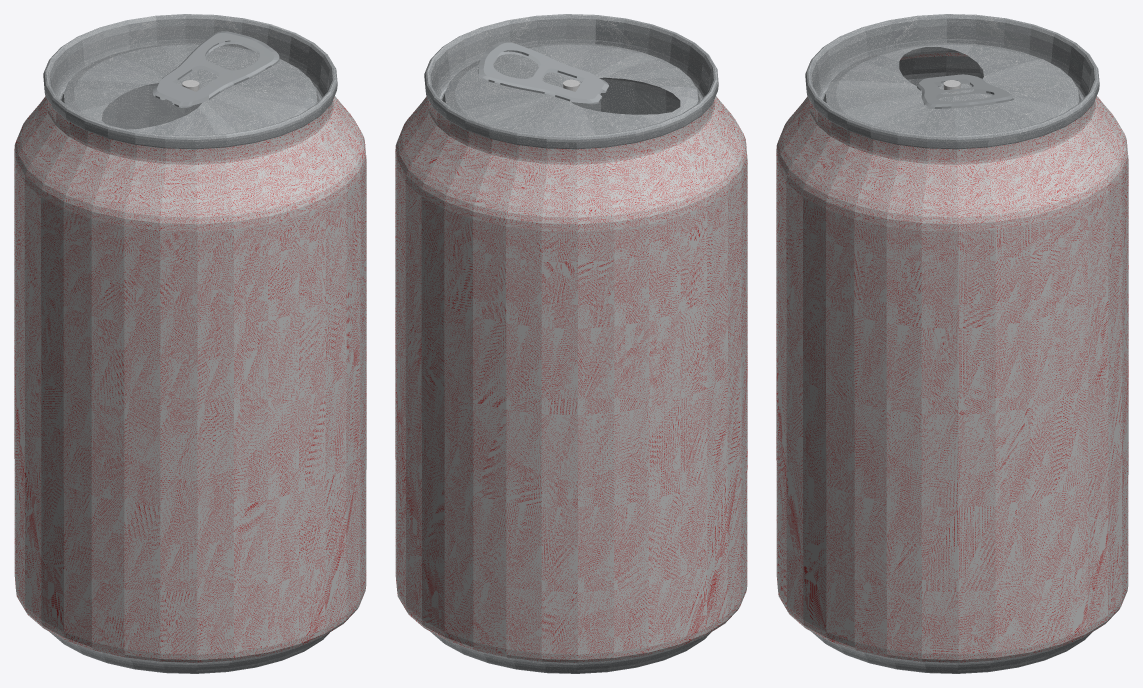
3 renders of one model, left to right at view 1: azimuth 30°, elevation 25°; view 2: azimuth 150°, elevation 25°; view 3: azimuth 270°, elevation 25°, orthographic.
Parts seen in each view (by area): view 1: mesh7.002_mesh7-geometry, mesh1.002_mesh1-geometry, mesh6.002_mesh6-geometry; view 2: mesh7.002_mesh7-geometry, mesh1.002_mesh1-geometry, mesh6.002_mesh6-geometry; view 3: mesh7.002_mesh7-geometry, mesh1.002_mesh1-geometry, mesh6.002_mesh6-geometry.
Boxes of the visible parts, left/top/right/bottom form: mesh7.002_mesh7-geometry: left=14, top=14, right=366, bottom=673; mesh1.002_mesh1-geometry: left=152, top=31, right=279, bottom=107; mesh6.002_mesh6-geometry: left=101, top=83, right=201, bottom=129; mesh7.002_mesh7-geometry: left=395, top=14, right=747, bottom=673; mesh1.002_mesh1-geometry: left=478, top=41, right=608, bottom=104; mesh6.002_mesh6-geometry: left=571, top=77, right=680, bottom=114; mesh7.002_mesh7-geometry: left=776, top=14, right=1128, bottom=673; mesh1.002_mesh1-geometry: left=917, top=74, right=1013, bottom=108; mesh6.002_mesh6-geometry: left=899, top=56, right=983, bottom=86.
Size of the model in its own units: 0.4516 by 0.7699 by 0.4509.
